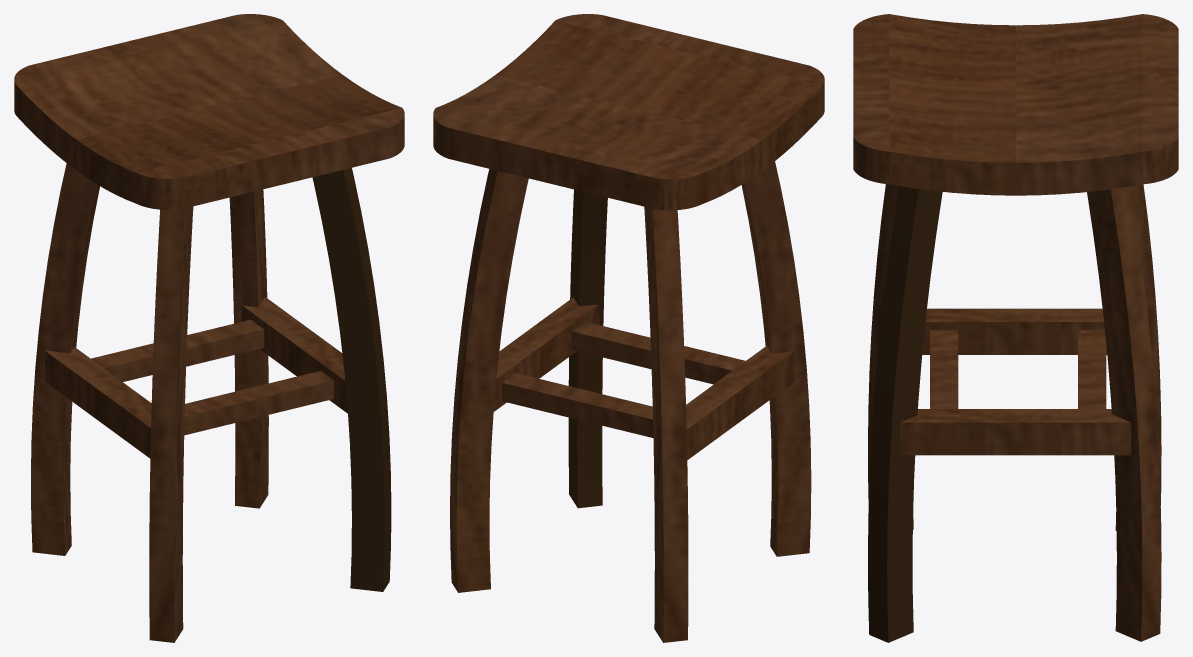
File: Banqueta.fbx
3 views of the same model, side by side, from view 1: azimuth 30°, elevation 25°; view 2: azimuth 150°, elevation 25°; view 3: azimuth 270°, elevation 25° (orthographic). The views are drawn at different scales.
Visible parts, largest first — view 1: Group1, Group_3_4, Group_3_3, Group_3_1, Bar_Stool, Group_3_2, Group2, Group3; view 2: Group1, Group_3_2, Group_3_1, Group_3_3, Bar_Stool, Group_3_4, Group2, Group3; view 3: Group1, Group_3_4, Group_3_2, Group3, Group2, Bar_Stool, Group_3_3, Group_3_1.
Part boxes in pixels (x1,y1,x2,y2): Group1: (14,14,404,209); Group_3_4: (312,167,391,591); Group_3_3: (149,206,193,642); Group_3_1: (31,163,99,555); Bar_Stool: (91,319,333,435); Group_3_2: (229,189,268,508); Group2: (45,347,151,458); Group3: (241,297,347,413); Group1: (433,14,824,210); Group_3_2: (450,169,528,592); Group_3_1: (644,206,688,642); Group_3_3: (741,161,811,556); Bar_Stool: (502,322,745,437); Group_3_4: (568,189,607,508); Group2: (686,346,794,459); Group3: (493,297,599,411); Group1: (853,14,1178,195); Group_3_4: (868,186,942,642); Group_3_2: (1087,186,1161,641); Group3: (900,409,1131,455); Group2: (922,308,1107,354); Bar_Stool: (930,330,1106,408); Group_3_3: (868,184,913,529); Group_3_1: (1115,184,1161,530).
Size of the model in its own units: 18 by 30.39 by 18.
